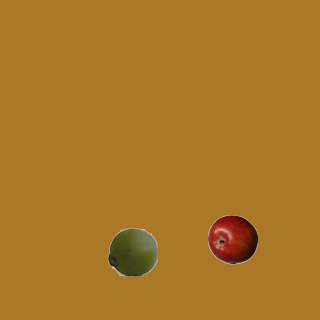Apple Braeburn: (207, 214, 257, 264)
Grape White 4: (107, 226, 157, 276)
